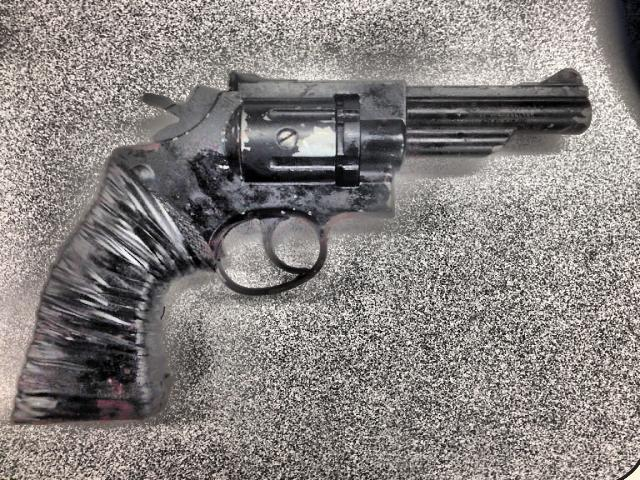pistol: (7, 66, 593, 426)
